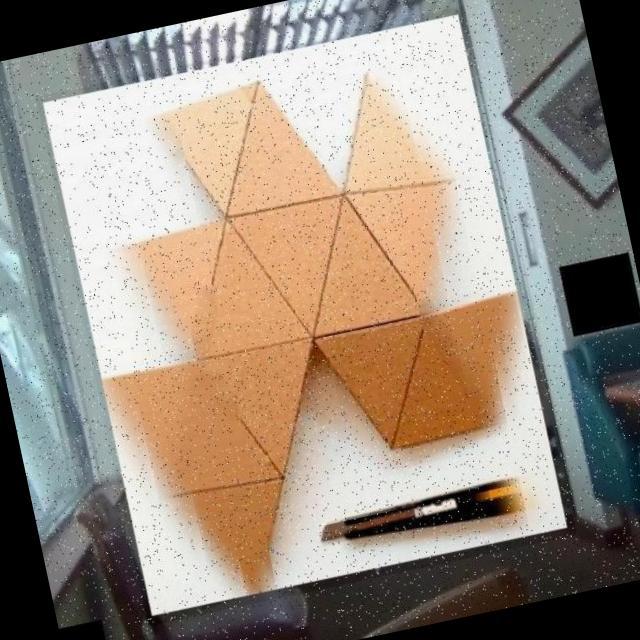box: (35, 5, 576, 626)
